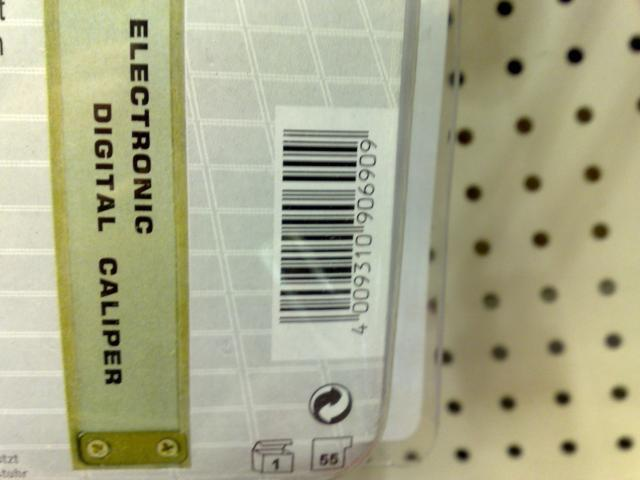Barcode: (276, 118, 384, 347)
